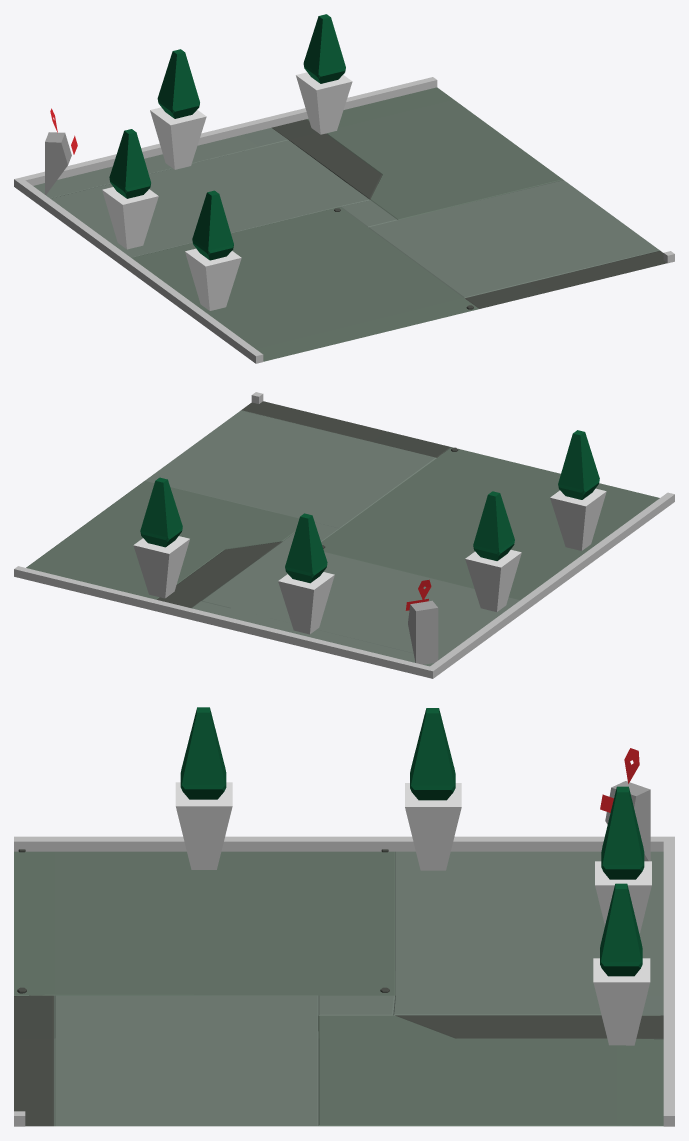
The picture shows the model from 3 angles, top to bottom: view 1: azimuth 30°, elevation 25°; view 2: azimuth 150°, elevation 25°; view 3: azimuth 270°, elevation 25°; orthographic projection. The views are drawn at different scales.
Parts seen in each view (by area): view 1: Scifi_Panel_04_Plaza014_group4.034_Scifi_Panel_04_Plaza014_group, Cube.1030_Cube.1154, base_singlePot01.024_base_singlePot01.028, base_singlePot01.025_base_singlePot01.029, base_singlePot01.026_base_singlePot01.030, base_singlePot01.027_base_singlePot01.031, panel.012_panel.019; view 2: Scifi_Panel_04_Plaza014_group4.034_Scifi_Panel_04_Plaza014_group, Cube.1030_Cube.1154, base_singlePot01.025_base_singlePot01.029, base_singlePot01.024_base_singlePot01.028, base_singlePot01.026_base_singlePot01.030, base_singlePot01.027_base_singlePot01.031, panel.012_panel.019; view 3: Scifi_Panel_04_Plaza014_group4.034_Scifi_Panel_04_Plaza014_group, Cube.1030_Cube.1154, base_singlePot01.026_base_singlePot01.030, base_singlePot01.027_base_singlePot01.031, base_singlePot01.025_base_singlePot01.029, base_singlePot01.024_base_singlePot01.028, panel.012_panel.019.
Part boxes in pixels (x1,y1,x2,y2): Scifi_Panel_04_Plaza014_group4.034_Scifi_Panel_04_Plaza014_group: [33, 87, 667, 361]; Cube.1030_Cube.1154: [14, 77, 437, 363]; base_singlePot01.024_base_singlePot01.028: [150, 49, 206, 169]; base_singlePot01.025_base_singlePot01.029: [296, 14, 352, 134]; base_singlePot01.026_base_singlePot01.030: [185, 190, 241, 310]; base_singlePot01.027_base_singlePot01.031: [102, 129, 158, 249]; panel.012_panel.019: [45, 108, 77, 194]; Scifi_Panel_04_Plaza014_group4.034_Scifi_Panel_04_Plaza014_group: [26, 401, 659, 666]; Cube.1030_Cube.1154: [14, 492, 674, 678]; base_singlePot01.025_base_singlePot01.029: [133, 477, 189, 598]; base_singlePot01.024_base_singlePot01.028: [278, 513, 334, 634]; base_singlePot01.026_base_singlePot01.030: [550, 430, 606, 550]; base_singlePot01.027_base_singlePot01.031: [465, 491, 521, 611]; panel.012_panel.019: [405, 579, 438, 664]; Scifi_Panel_04_Plaza014_group4.034_Scifi_Panel_04_Plaza014_group: [14, 849, 663, 1126]; Cube.1030_Cube.1154: [14, 836, 674, 1126]; base_singlePot01.026_base_singlePot01.030: [175, 707, 232, 869]; base_singlePot01.027_base_singlePot01.031: [405, 708, 461, 870]; base_singlePot01.025_base_singlePot01.029: [593, 883, 650, 1045]; base_singlePot01.024_base_singlePot01.028: [595, 786, 651, 933]; panel.012_panel.019: [600, 748, 650, 861].
Bounding box in the file's own units: 10 × 2.59 × 10.
